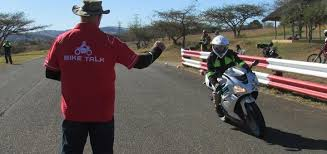helmet: (209, 32, 235, 60)
